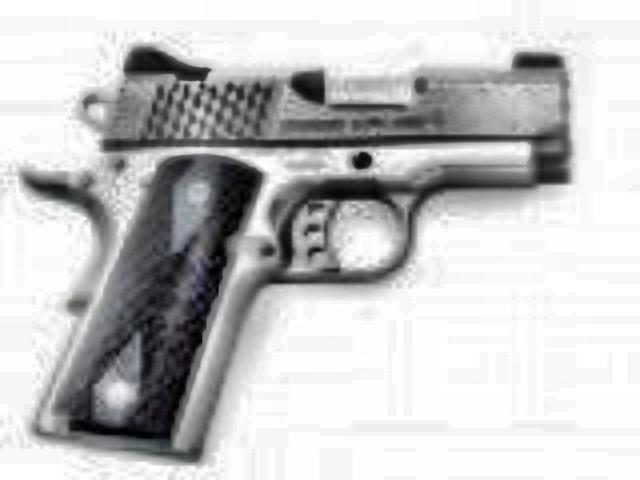pistol: (40, 32, 564, 456)
